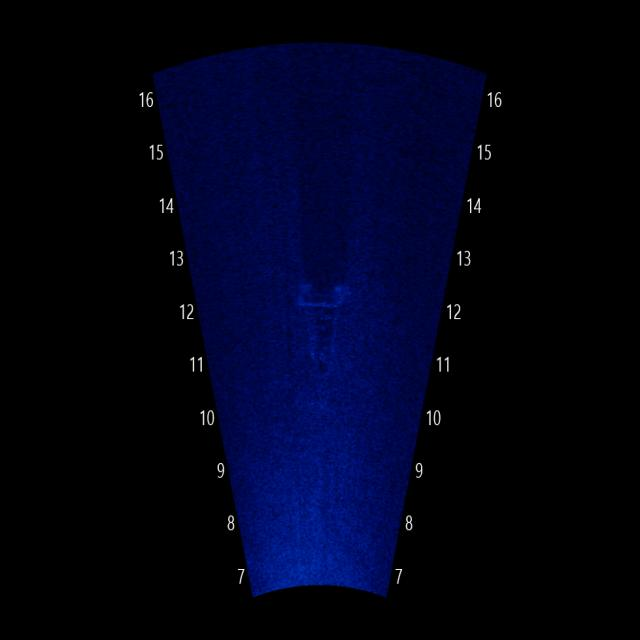triangle: (294, 278, 354, 422)
